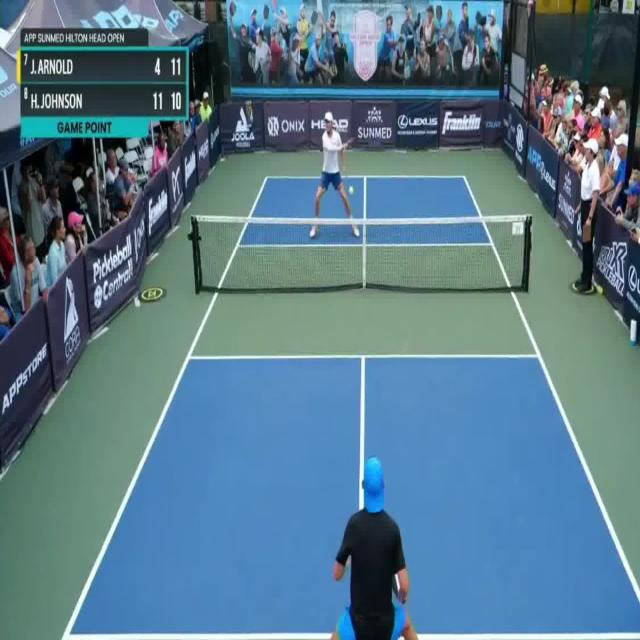ball: (348, 187, 354, 195)
